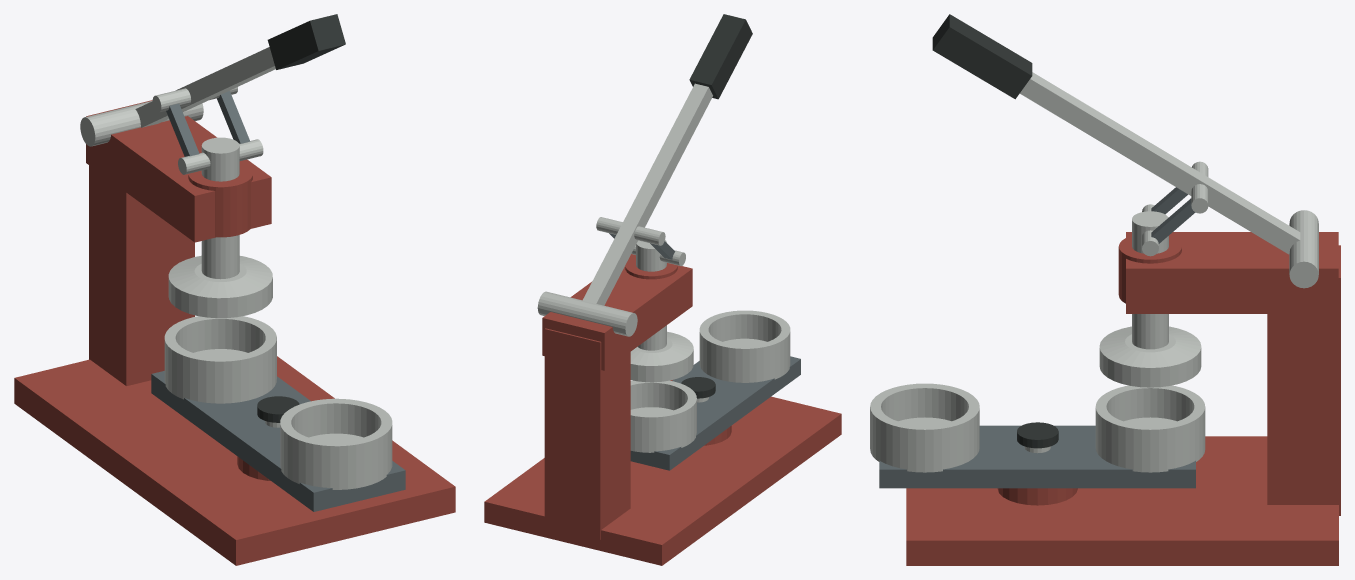
3 renders of one model, left to right at view 1: azimuth 30°, elevation 25°; view 2: azimuth 150°, elevation 25°; view 3: azimuth 270°, elevation 25°, orthographic. The views are drawn at different scales.
Visible parts, largest first — view 1: WholeGroundFootBase, WholeRearUpright, WholeOverheadArm, WholeBlindLowerDieCup_1, WholeBlindLowerDieCup_0, WholeTwinEndedRotaryCarrier, WholeUpperRoundDie, WholeFixedPlunger, WholeLongRaisedHandle, WholeDarkHandleGrip, WholeVerticalPlungerGuide, WholeRearLeverPivot (+5 smaller); view 2: WholeGroundFootBase, WholeRearUpright, WholeOverheadArm, WholeBlindLowerDieCup_1, WholeLongRaisedHandle, WholeTwinEndedRotaryCarrier, WholeBlindLowerDieCup_0, WholeDarkHandleGrip, WholeUpperRoundDie, WholeRearLeverPivot, WholeFixedPlunger, WholeUpperTogglePin (+2 smaller); view 3: WholeGroundFootBase, WholeRearUpright, WholeOverheadArm, WholeTwinEndedRotaryCarrier, WholeBlindLowerDieCup_1, WholeBlindLowerDieCup_0, WholeLongRaisedHandle, WholeUpperRoundDie, WholeDarkHandleGrip, WholeFixedPlunger, WholeRearLeverPivot, WholeVerticalPlungerGuide (+4 smaller).
Part boxes in pixels (x1,y1,x2,y2): WholeGroundFootBase: (14, 356, 455, 565); WholeRearUpright: (89, 165, 194, 386); WholeOverheadArm: (86, 100, 271, 242); WholeBlindLowerDieCup_1: (280, 398, 392, 489); WholeBlindLowerDieCup_0: (164, 316, 276, 403); WholeTwinEndedRotaryCarrier: (151, 371, 405, 511); WholeUpperRoundDie: (168, 255, 272, 318); WholeFixedPlunger: (201, 137, 239, 279); WholeLongRaisedHandle: (135, 47, 275, 127); WholeDarkHandleGrip: (267, 14, 345, 69); WholeVerticalPlungerGuide: (188, 162, 252, 237); WholeRearLeverPivot: (80, 100, 203, 146); WholeGroundFootBase: (484, 380, 841, 565); WholeRearUpright: (544, 328, 630, 539); WholeOverheadArm: (542, 254, 692, 370); WholeBlindLowerDieCup_1: (699, 310, 790, 382); WholeLongRaisedHandle: (582, 83, 712, 305); WholeTwinEndedRotaryCarrier: (630, 356, 800, 470); WholeBlindLowerDieCup_0: (630, 380, 696, 452); WholeDarkHandleGrip: (689, 14, 752, 99); WholeUpperRoundDie: (630, 331, 693, 382); WholeRearLeverPivot: (537, 291, 637, 336); WholeFixedPlunger: (636, 240, 666, 350); WholeUpperTogglePin: (596, 217, 665, 245); WholeGroundFootBase: (906, 436, 1338, 565); WholeRearUpright: (1267, 245, 1340, 515); WholeOverheadArm: (1126, 232, 1338, 313); WholeTwinEndedRotaryCarrier: (879, 425, 1195, 488); WholeBlindLowerDieCup_1: (870, 383, 979, 472); WholeBlindLowerDieCup_0: (1095, 385, 1205, 472); WholeLongRaisedHandle: (1020, 72, 1300, 254); WholeUpperRoundDie: (1099, 326, 1201, 387); WholeDarkHandleGrip: (932, 14, 1032, 99); WholeFixedPlunger: (1132, 211, 1168, 349); WholeRearLeverPivot: (1289, 210, 1318, 288); WholeVerticalPlungerGuide: (1118, 235, 1181, 303).
Size of the model in its own units: 0.32 by 0.7047 by 0.6095.
